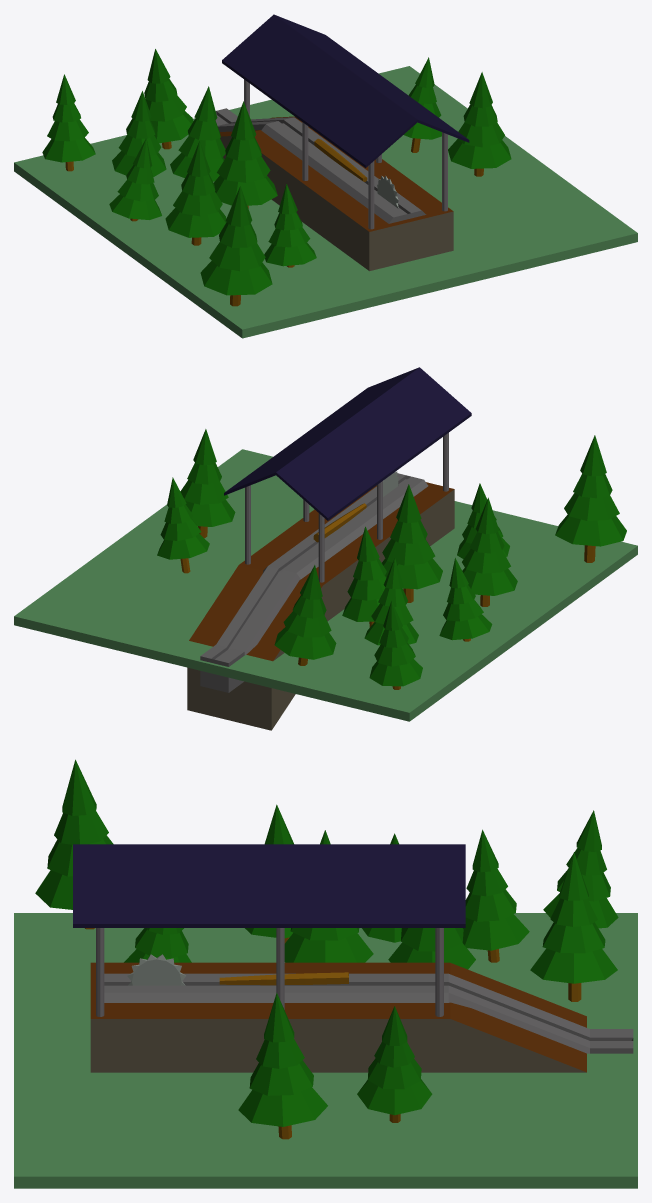
The model's file is aserradero.fbx.
The picture shows the model from 3 angles, top to bottom: view 1: azimuth 30°, elevation 25°; view 2: azimuth 150°, elevation 25°; view 3: azimuth 270°, elevation 25°; orthographic projection. The views are drawn at different scales.
Parts seen in each view (by area): view 1: Cube, Cube.002, Cube.001, Cube.003, Cube.005, Cylinder.049, Cylinder.054, Cylinder.046, Cylinder.001, Cylinder.050, Cylinder.002, Cylinder.034 (+29 smaller); view 2: Cube, Cube.002, Cube.003, Cube.005, Cube.001, Cylinder.049, Cylinder.024, Cylinder.050, Cylinder.046, Cylinder.001, Cylinder.034, Cylinder.002 (+20 smaller); view 3: Cube, Cube.002, Cube.001, Cube.005, Cube.003, Cylinder.054, Cylinder.024, Cylinder.001, Cylinder.029, Cylinder.061, Cylinder.055, Cylinder.025 (+28 smaller).
Part boxes in pixels (x1,y1,x2,y2): Cube: [14, 66, 637, 338]; Cube.002: [222, 14, 469, 167]; Cube.001: [220, 136, 453, 271]; Cube.003: [215, 108, 426, 223]; Cube.005: [220, 116, 453, 231]; Cylinder.049: [200, 261, 272, 295]; Cylinder.054: [448, 139, 511, 168]; Cylinder.046: [165, 208, 226, 237]; Cylinder.001: [213, 175, 277, 205]; Cylinder.050: [209, 242, 265, 271]; Cylinder.002: [217, 156, 270, 182]; Cylinder.034: [42, 137, 95, 162]; Cube: [14, 449, 637, 721]; Cube.002: [224, 367, 471, 520]; Cube.003: [200, 473, 428, 692]; Cube.005: [189, 482, 454, 661]; Cube.001: [187, 489, 454, 730]; Cylinder.049: [555, 514, 626, 546]; Cylinder.024: [274, 627, 336, 659]; Cylinder.050: [564, 493, 619, 520]; Cylinder.046: [462, 568, 517, 595]; Cylinder.001: [382, 558, 442, 589]; Cylinder.034: [369, 659, 422, 686]; Cylinder.002: [382, 538, 435, 565]; Cube: [14, 913, 637, 1188]; Cube.002: [73, 844, 465, 927]; Cube.001: [90, 1019, 586, 1072]; Cube.005: [90, 962, 586, 1072]; Cube.003: [104, 973, 633, 1053]; Cylinder.054: [238, 1087, 327, 1126]; Cylinder.024: [530, 948, 617, 983]; Cylinder.001: [284, 933, 373, 962]; Cylinder.029: [462, 914, 529, 950]; Cylinder.061: [357, 1079, 432, 1115]; Cylinder.055: [249, 1060, 313, 1095]; Cylinder.025: [542, 922, 605, 953].
Bounding box in the file's own units: 206 × 104 × 200.
